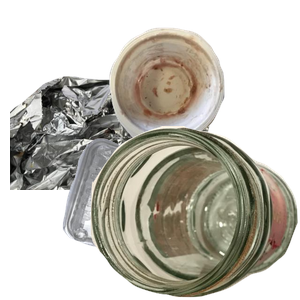glass: (90, 126, 300, 300)
metal: (10, 73, 212, 253)
plastic: (60, 136, 237, 300)
trash: (107, 25, 300, 162)
